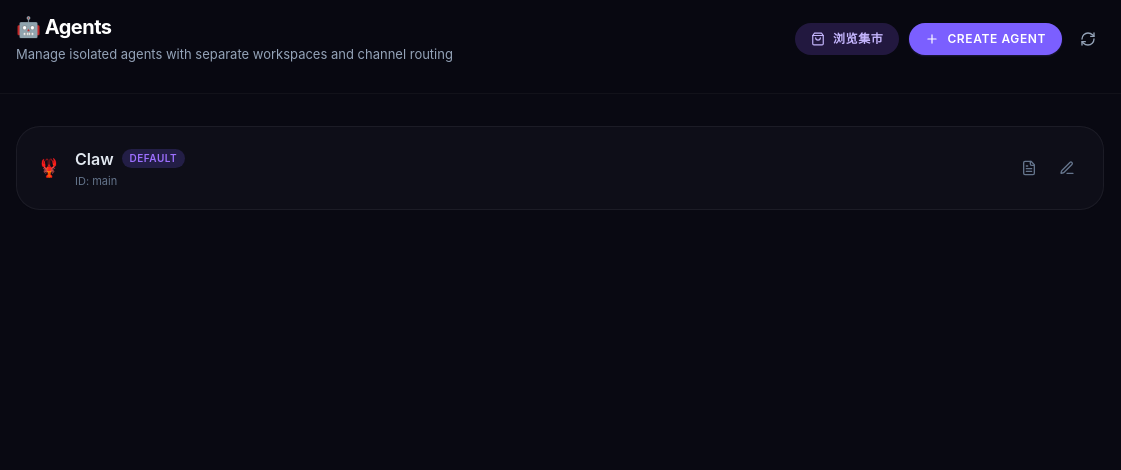
Test: Agents page › shows AgentEmojiPicker grid when editing an agent identity
This screenshot has width=1121, height=470.
Expected: the text "Claw" is shown, x1=75 y1=146 x2=114 y2=170
Click the button titled "Edit identity". click: (1067, 168)
box: x1=1051 y1=152 x2=1083 y2=184
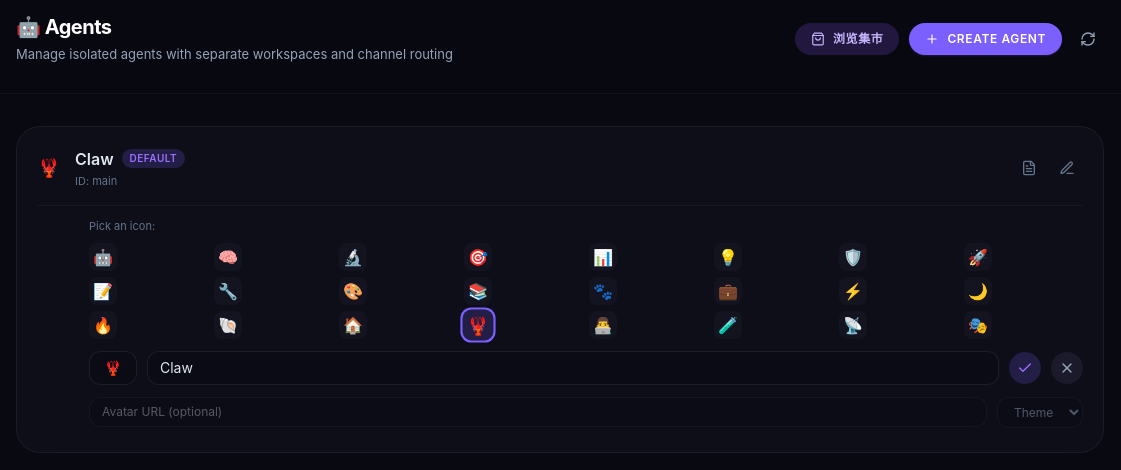
Now the button "🧠" is shown, box x1=214 y1=242 x2=242 y2=270
Now the button "🚀" is shown, box x1=964 y1=242 x2=992 y2=270
Now the button "🦞" is shown, box x1=463 y1=309 x2=493 y2=340
